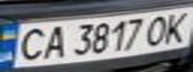1: (109, 18, 130, 52)
3: (69, 20, 97, 57)
7: (124, 16, 148, 51)
8: (90, 19, 112, 55)
A: (36, 22, 72, 61)
C: (9, 25, 51, 63)
K: (157, 8, 193, 44)
O: (142, 12, 175, 47)
